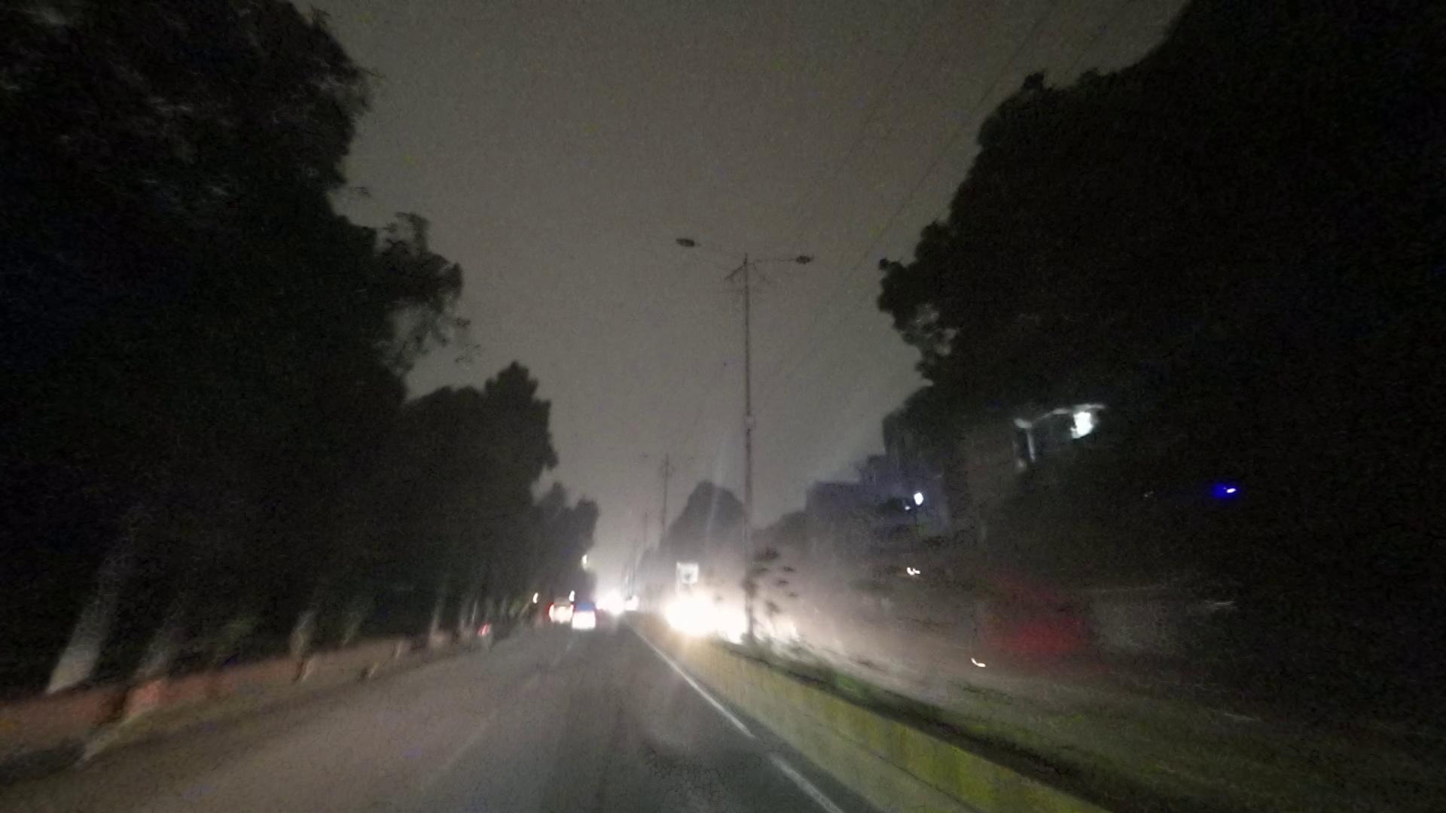streetlight: (673, 235, 742, 261), (756, 252, 819, 267)
